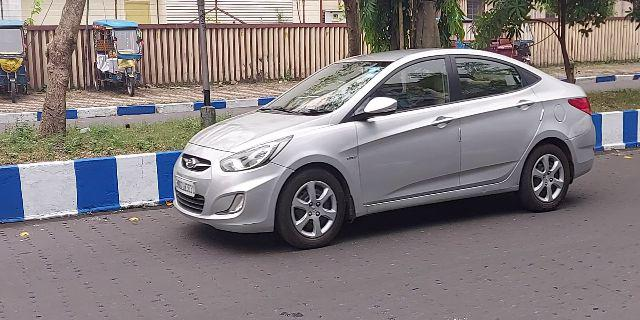Car: (169, 45, 606, 239)
